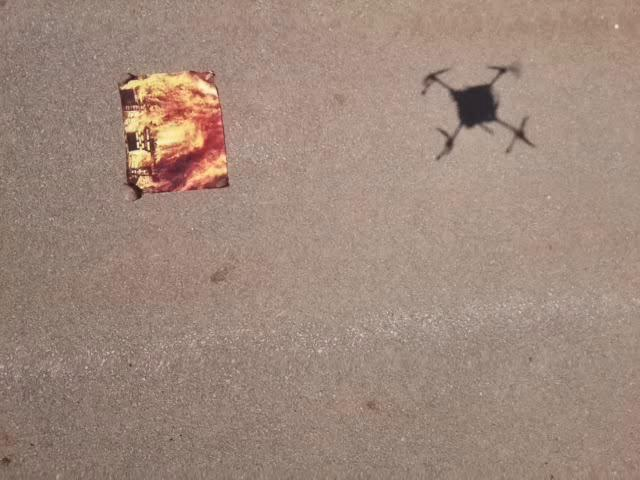fire-poster: (115, 68, 231, 200)
